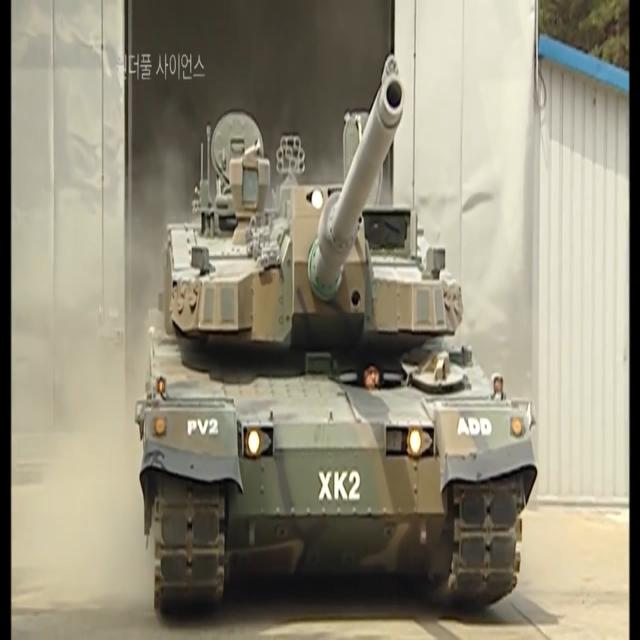korea tank: (133, 52, 541, 623)
